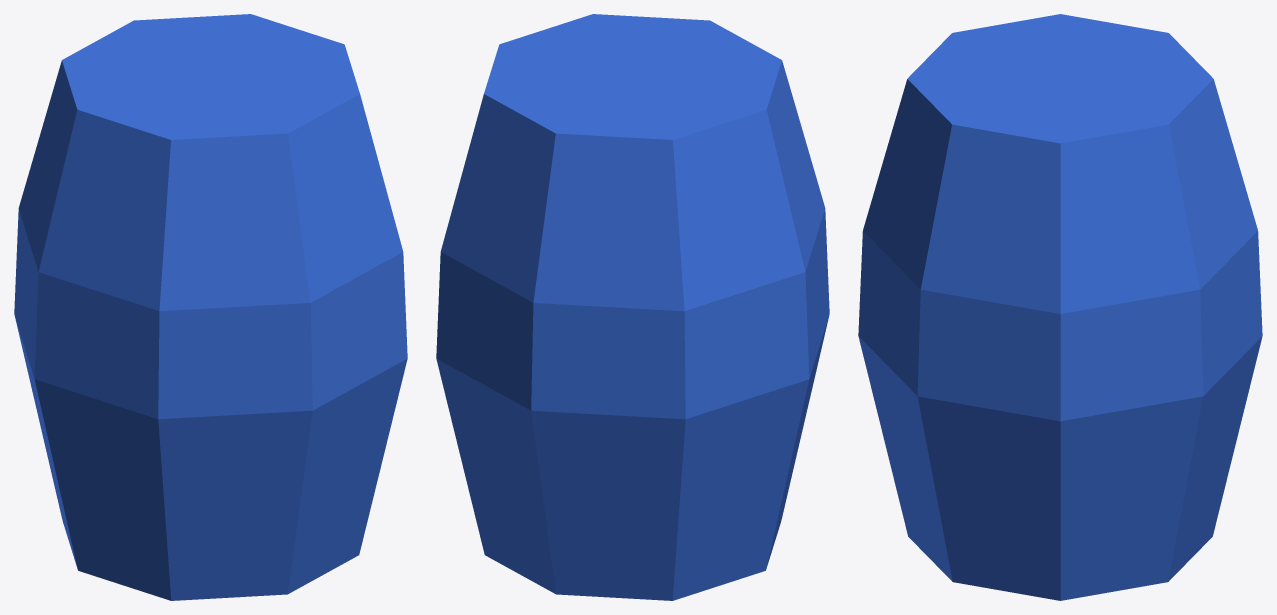
Rendered from Collision_Barrel_Dark.fbx.
3 renders of one model, left to right at view 1: azimuth 30°, elevation 25°; view 2: azimuth 150°, elevation 25°; view 3: azimuth 270°, elevation 25°, orthographic.
Parts seen in each view (by area): view 1: UCX_Barrel_Dark_1; view 2: UCX_Barrel_Dark_1; view 3: UCX_Barrel_Dark_1.
Boxes of the visible parts, x1,y1,x2,y2 form: UCX_Barrel_Dark_1: [14, 14, 407, 600]; UCX_Barrel_Dark_1: [436, 14, 829, 600]; UCX_Barrel_Dark_1: [858, 14, 1262, 600].
Size of the model in its own units: 70.84 by 88.53 by 70.84.
